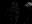person: (24, 1, 31, 8)
